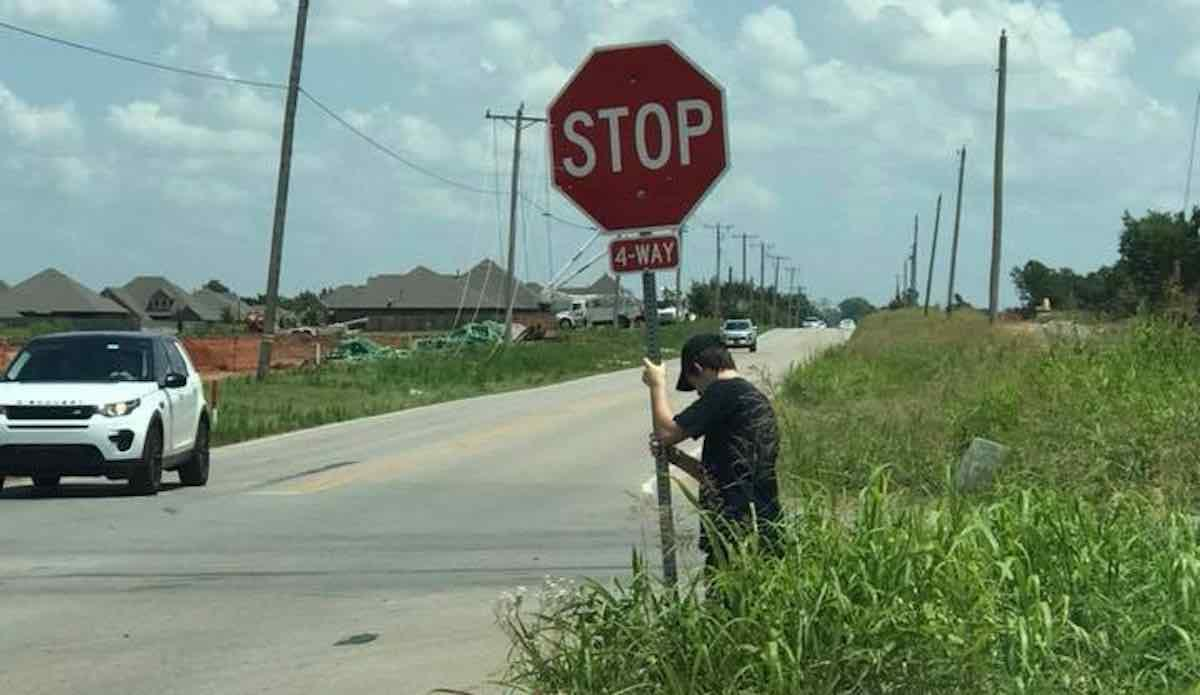Pole: (643, 274, 676, 586)
Sign: (550, 38, 730, 227)
